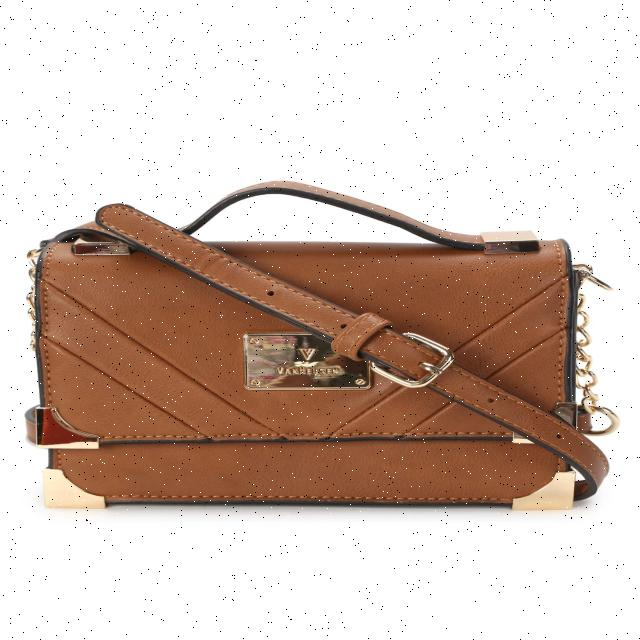handbag: (24, 180, 618, 510)
